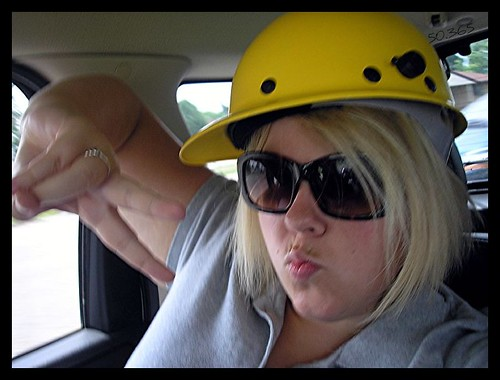person hardhat: (28, 13, 491, 368)
